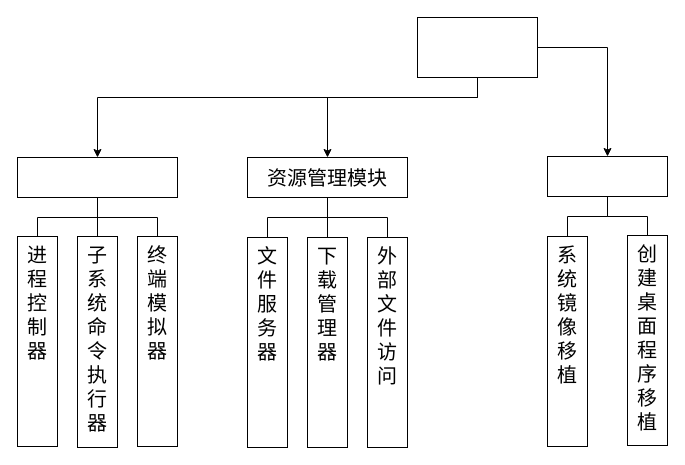
The diagram is 685 pixels wide and 465 high, and some of its shapes have lost their labels. The box of each missing label's shape, as (x1, y1, x2, y2) in pixels:
Minal: (416, 16, 538, 78)
子系统移植: (546, 156, 668, 196)
进程管理模块: (16, 156, 178, 198)
